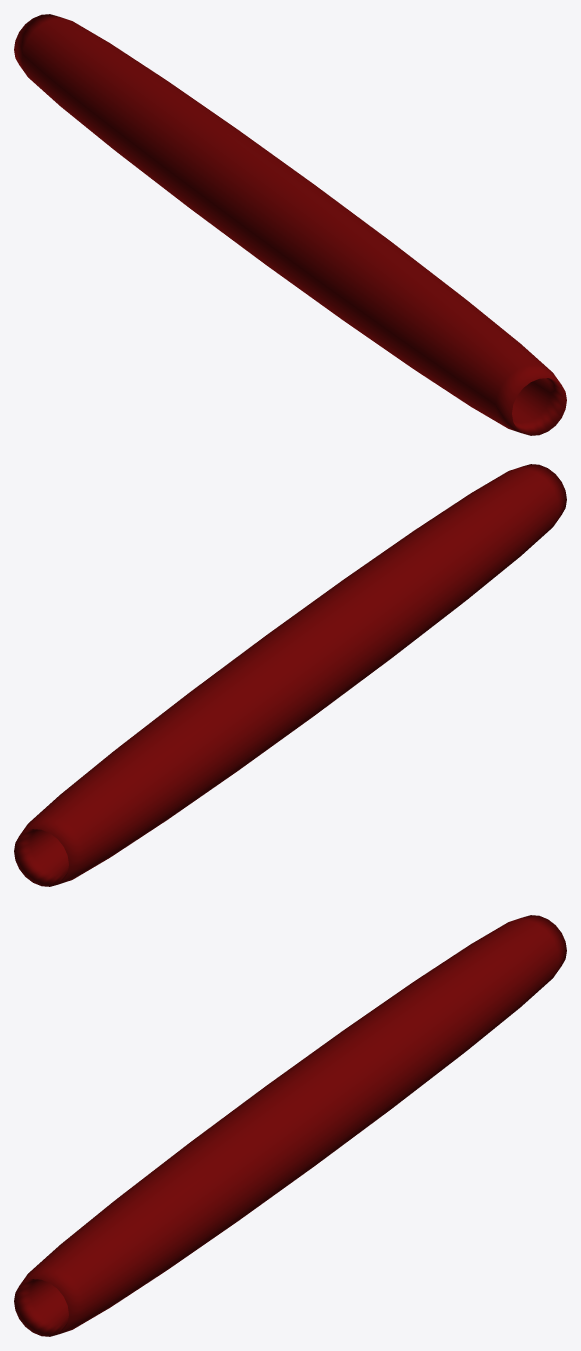
The model's file is Pipe.fbx.
The picture shows the model from 3 angles, top to bottom: view 1: azimuth 30°, elevation 25°; view 2: azimuth 150°, elevation 25°; view 3: azimuth 330°, elevation 25°; orthographic projection.
Visible parts, largest first — view 1: pTorus1; view 2: pTorus1; view 3: pTorus1.
Boxes of the visible parts, x1,y1,x2,y2 form: pTorus1: (14,14,566,435); pTorus1: (14,464,566,886); pTorus1: (14,915,566,1336).
Bounding box in the file's own units: 2.2 × 2.15 × 22.95.
